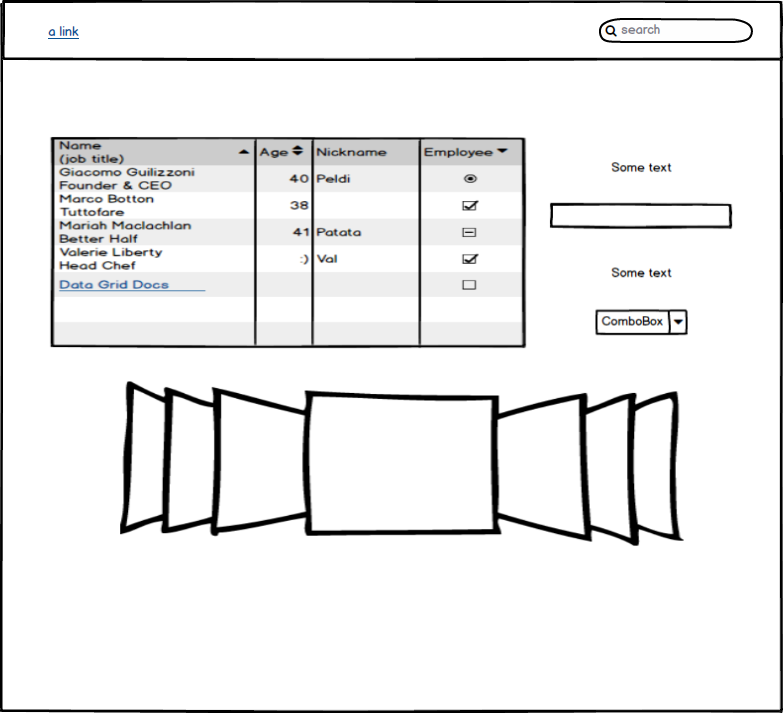input: (545, 198, 737, 233)
label: (608, 258, 677, 285), (609, 156, 677, 174)
navlink: (41, 20, 91, 43)
search: (593, 12, 758, 48)
select_box: (589, 305, 693, 338)
slideshow: (115, 376, 691, 555)
table: (48, 131, 530, 356)
